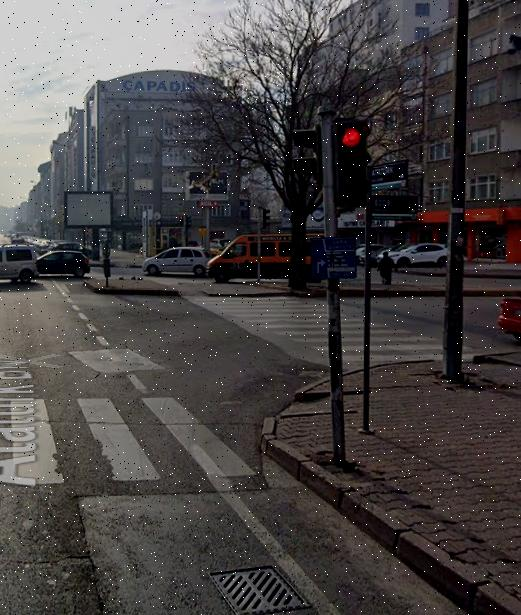redlight: (328, 114, 371, 210)
